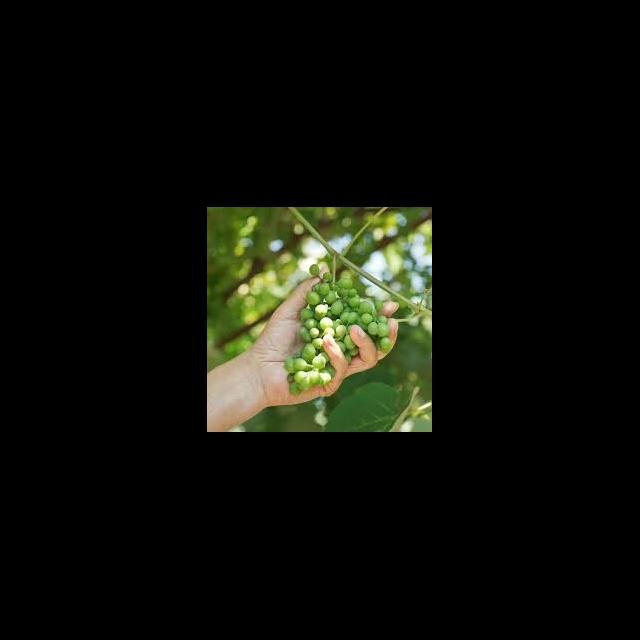grape: (284, 263, 392, 397)
